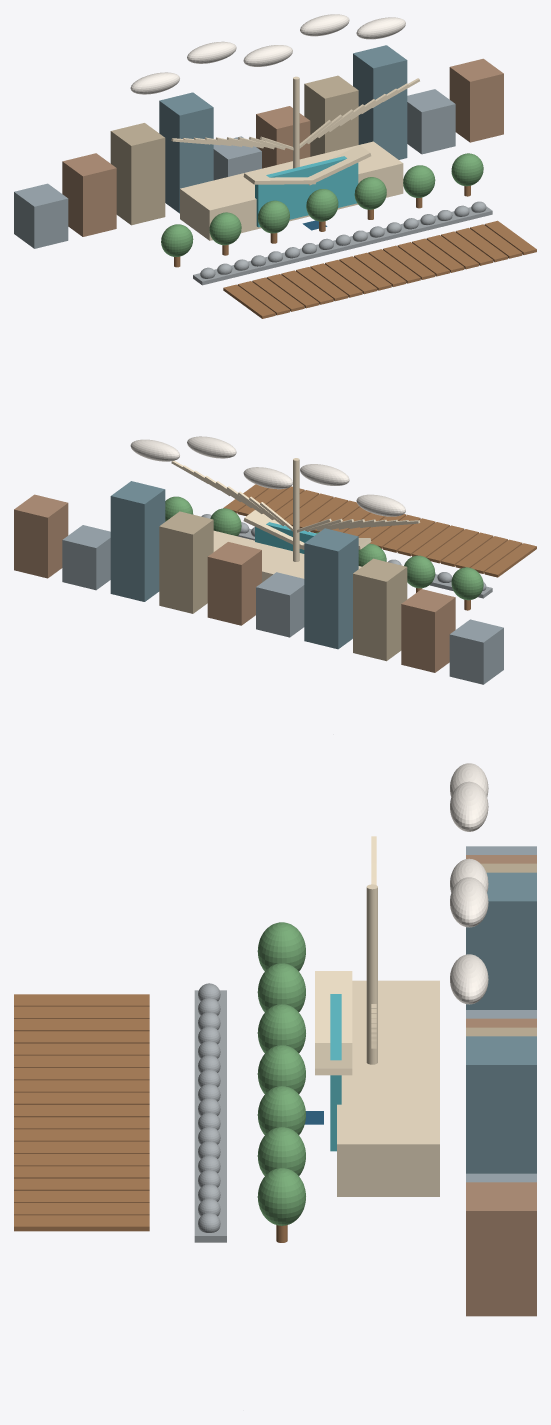
Rendered from milwaukee_clay_waterfront.glb.
3 renders of one model, top to bottom at view 1: azimuth 30°, elevation 25°; view 2: azimuth 150°, elevation 25°; view 3: azimuth 270°, elevation 25°, orthographic. The views are drawn at different scales.
Parts seen in each view (by area): view 1: Museum_Base, Skyline_02, Skyline_07, Skyline_03, Skyline_09, Skyline_01, Skyline_06, Museum_Glass, Skyline_00, Skyline_08, Shoreline, Skyline_05 (+35 smaller); view 2: Skyline_07, Skyline_03, Skyline_06, Skyline_02, Skyline_01, Skyline_05, Skyline_09, Skyline_00, Skyline_04, Skyline_08, Museum_Base, TreeCrown_00 (+28 smaller); view 3: Museum_Base, Skyline_07, Skyline_09, Skyline_03, Shoreline, Boardwalk_Plank_18, Museum_Roof_L, TreeCrown_06, Museum_Mast, TreeCrown_05, TreeCrown_00, TreeCrown_01 (+26 smaller).
Part boxes in pixels (x1=…): Museum_Base: x1=180, y1=141, x2=403, y2=240; Skyline_02: x1=110, y1=123, x2=165, y2=225; Skyline_07: x1=353, y1=45, x2=407, y2=159; Skyline_03: x1=159, y1=92, x2=213, y2=213; Skyline_09: x1=449, y1=58, x2=503, y2=142; Skyline_01: x1=62, y1=153, x2=116, y2=236; Skyline_06: x1=304, y1=75, x2=358, y2=156; Museum_Glass: x1=255, y1=156, x2=358, y2=227; Skyline_00: x1=14, y1=183, x2=68, y2=248; Skyline_08: x1=407, y1=89, x2=455, y2=154; Shoreline: x1=193, y1=206, x2=492, y2=285; Skyline_05: x1=256, y1=106, x2=310, y2=168; Skyline_07: x1=110, y1=481, x2=165, y2=601; Skyline_03: x1=304, y1=528, x2=358, y2=649; Skyline_06: x1=159, y1=511, x2=213, y2=613; Skyline_02: x1=353, y1=558, x2=407, y2=661; Skyline_01: x1=401, y1=589, x2=455, y2=672; Skyline_05: x1=207, y1=542, x2=261, y2=625; Skyline_09: x1=14, y1=494, x2=68, y2=578; Skyline_00: x1=449, y1=619, x2=503, y2=684; Skyline_04: x1=256, y1=572, x2=304, y2=637; Skyline_08: x1=62, y1=525, x2=110, y2=590; Museum_Base: x1=213, y1=530, x2=361, y2=582; TreeCrown_00: x1=451, y1=567, x2=483, y2=600; Museum_Base: x1=337, y1=980, x2=439, y2=1196; Skyline_07: x1=466, y1=1036, x2=536, y2=1173; Skyline_09: x1=466, y1=1182, x2=536, y2=1316; Skyline_03: x1=466, y1=872, x2=536, y2=1009; Shoreline: x1=194, y1=990, x2=226, y2=1242; Boardwalk_Plank_18: x1=14, y1=1215, x2=149, y2=1231; Museum_Roof_L: x1=315, y1=971, x2=352, y2=1042; TreeCrown_06: x1=257, y1=1168, x2=305, y2=1225; Museum_Mast: x1=366, y1=884, x2=377, y2=1064; TreeCrown_05: x1=257, y1=1127, x2=305, y2=1175; TreeCrown_00: x1=257, y1=922, x2=305, y2=971; TreeCrown_01: x1=257, y1=963, x2=305, y2=1012.
Bounding box in the file's own units: 58.2 × 39.01 × 32.4.
